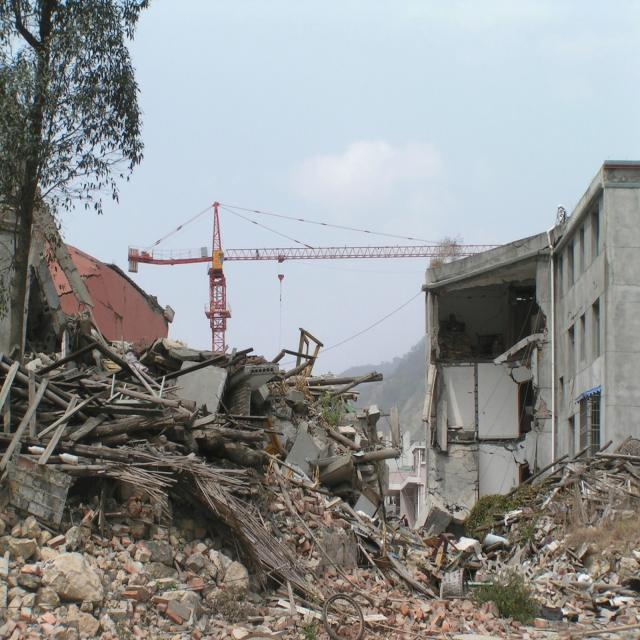Severely_Damaged: (0, 219, 562, 595)
